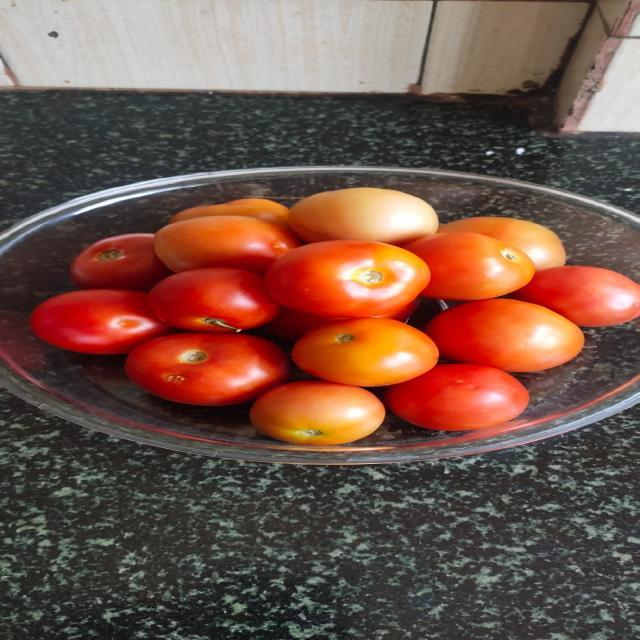Tomato: (264, 240, 430, 318), (124, 333, 288, 406), (424, 298, 585, 372), (292, 318, 438, 387), (383, 364, 529, 431), (29, 289, 176, 355), (403, 232, 534, 301), (153, 215, 300, 275), (146, 268, 279, 333), (288, 187, 437, 245), (249, 381, 384, 445), (510, 266, 640, 327), (436, 216, 566, 270), (69, 233, 173, 292), (167, 198, 287, 227)
